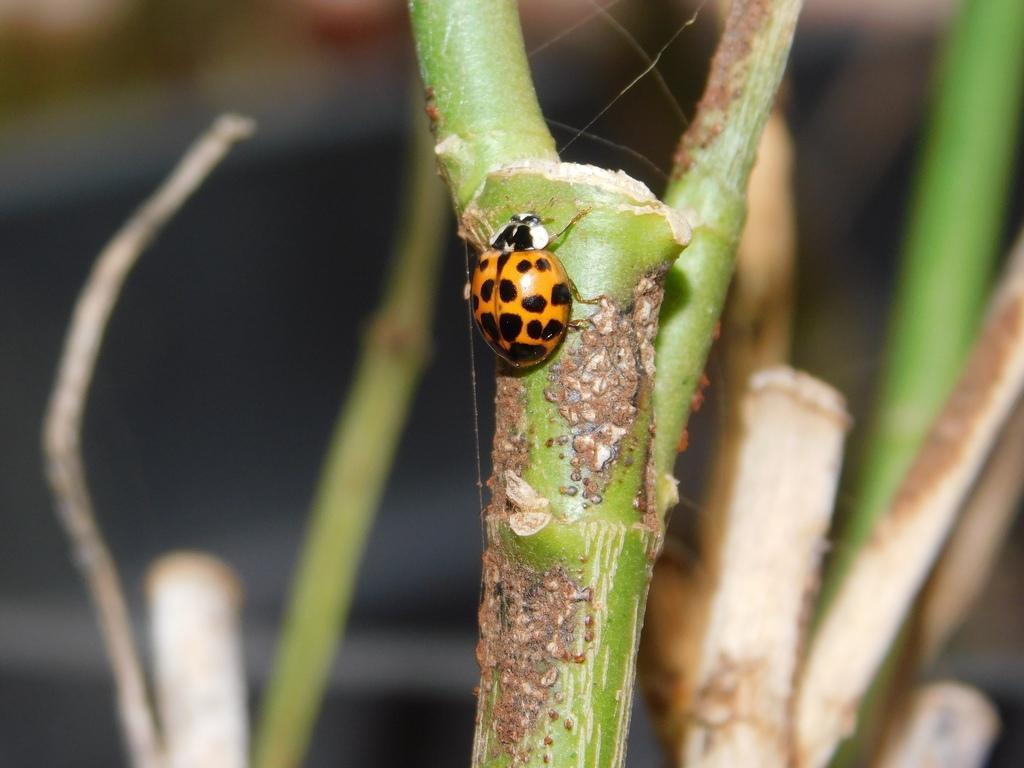ladybug: (470, 206, 609, 371)
